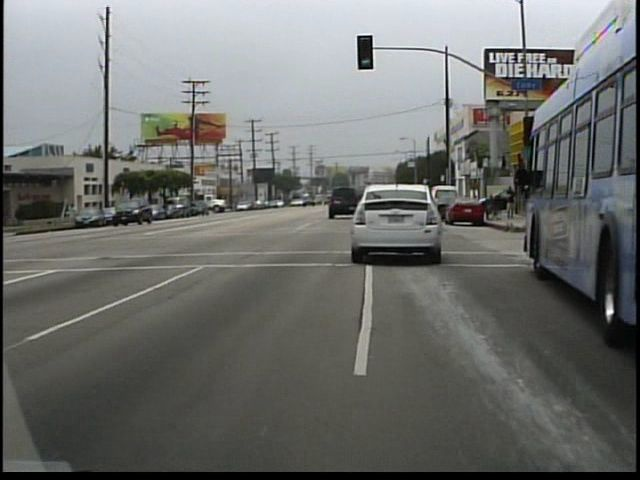person: (500, 180, 521, 228), (77, 203, 78, 228)
